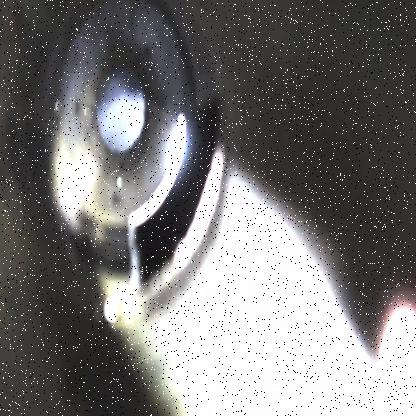Crack2: (124, 85, 224, 288)
